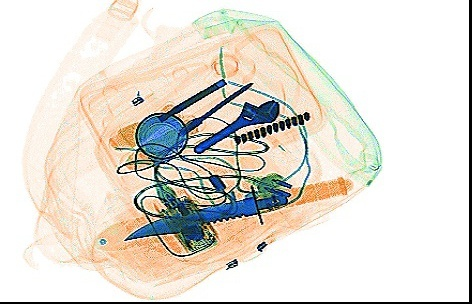knife: (123, 175, 351, 240)
